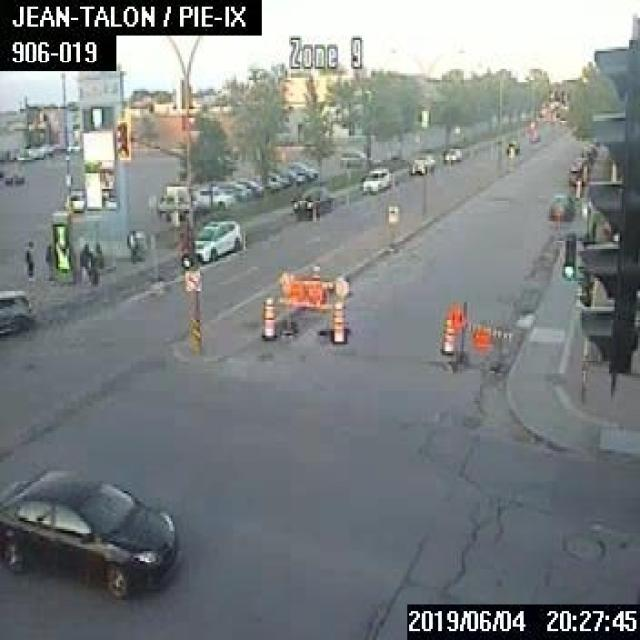construction: (444, 299, 514, 372), (272, 266, 346, 335), (330, 296, 346, 341), (258, 295, 274, 335), (440, 318, 454, 353)
pedestrian: (22, 238, 34, 284), (124, 224, 136, 266), (90, 241, 102, 282), (78, 243, 90, 278), (42, 242, 52, 279)
vehicle: (0, 466, 176, 600), (192, 213, 244, 264), (0, 282, 33, 338), (291, 185, 332, 218), (158, 191, 194, 219), (193, 184, 232, 209), (360, 167, 389, 193), (339, 149, 377, 165), (548, 193, 572, 218), (285, 160, 317, 178), (62, 187, 86, 210), (408, 153, 433, 175), (233, 176, 262, 194), (223, 180, 250, 198), (280, 167, 304, 184), (266, 171, 288, 185), (442, 145, 461, 161), (567, 164, 583, 182), (261, 175, 279, 190), (580, 142, 596, 157), (4, 171, 23, 183), (574, 156, 590, 170), (505, 139, 518, 152), (527, 129, 539, 141)
